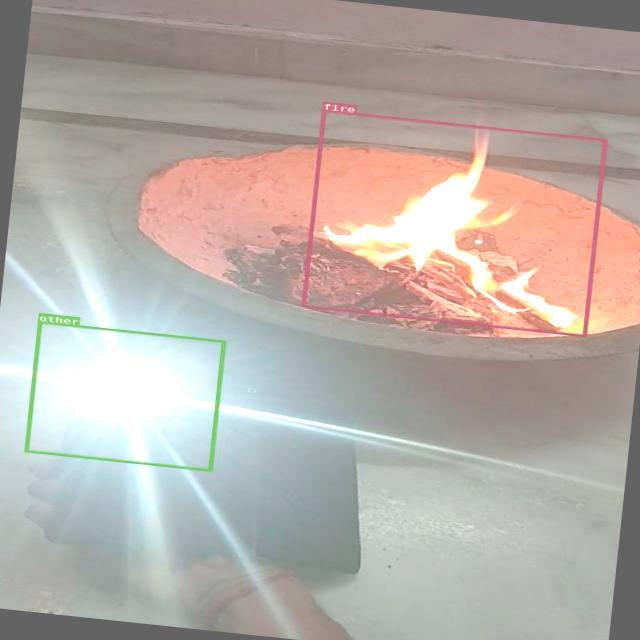fire: (300, 108, 606, 336)
